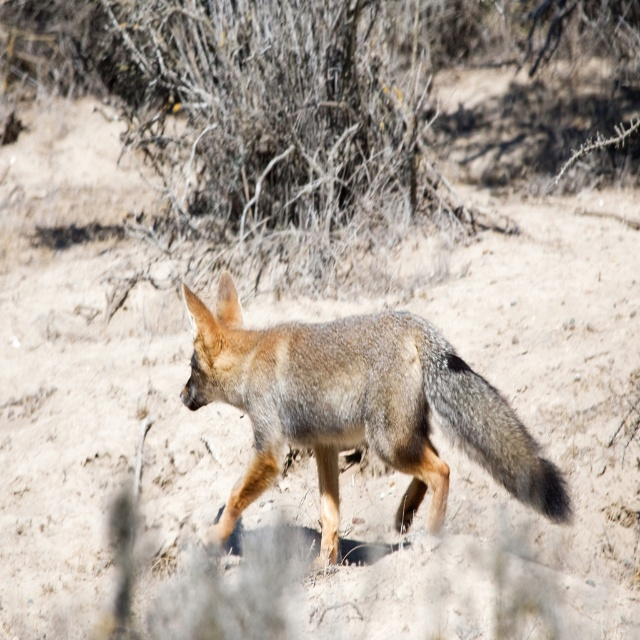Fox: (180, 271, 575, 571)
